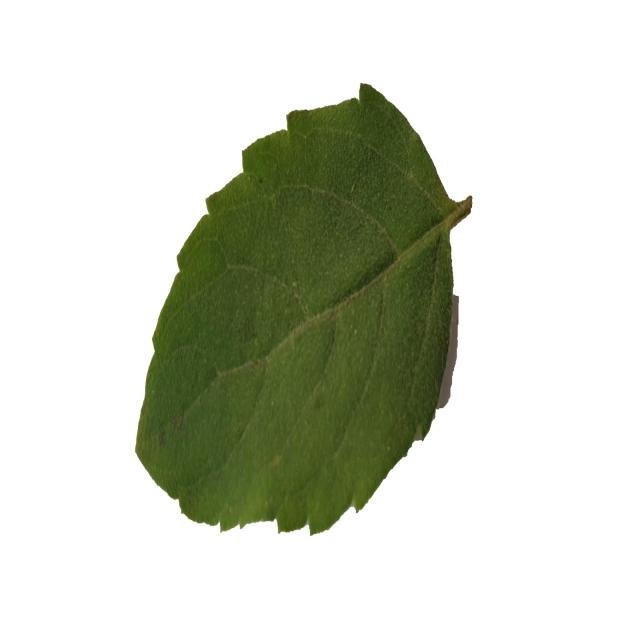tulsi: (128, 82, 472, 540)
